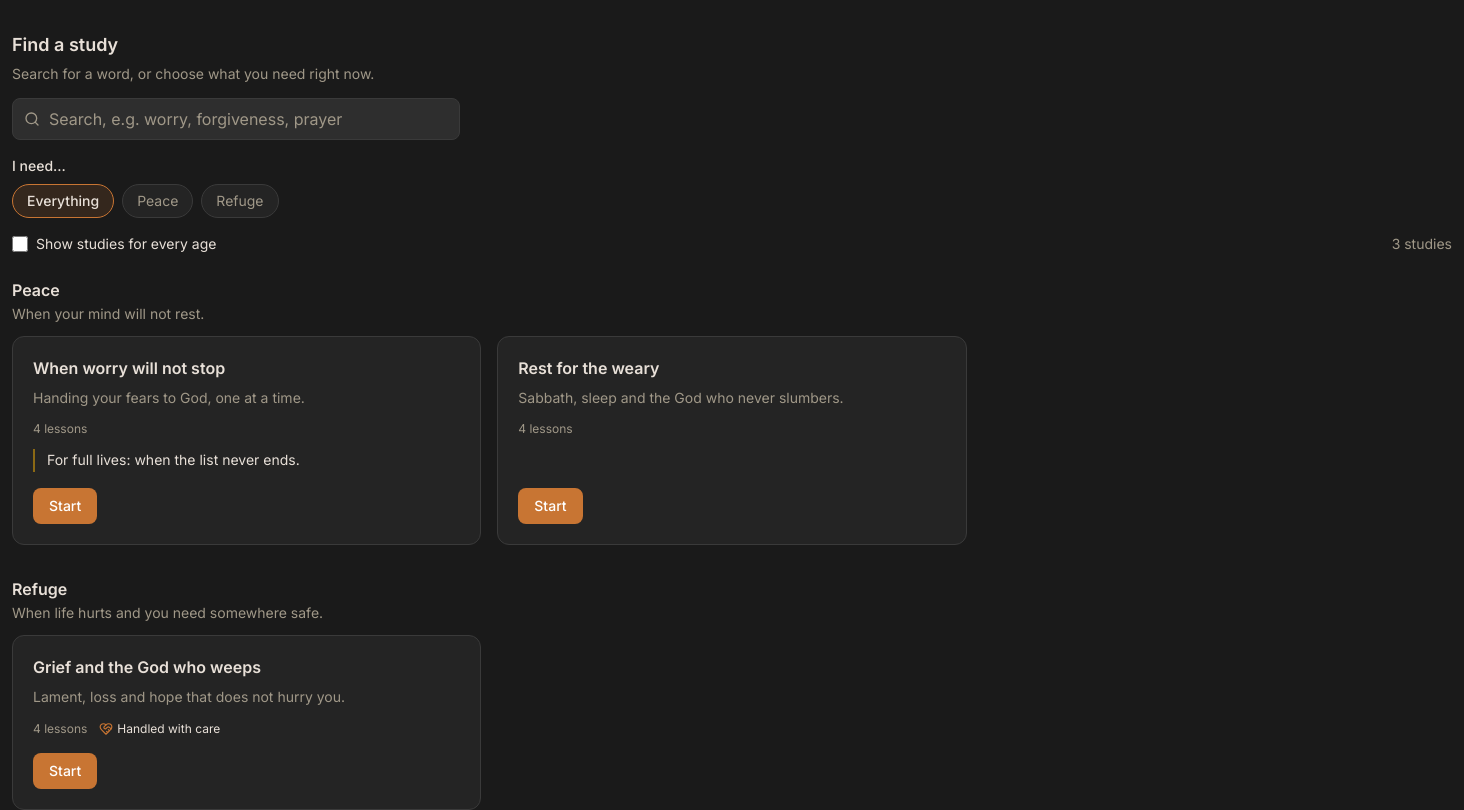
StudyHubPage › says so when a study cannot be started, and stays on the page
(page scrolled)
Step 1. Click the button "Start" below "Rest for the weary" → (550, 506), box [518,488,583,524]
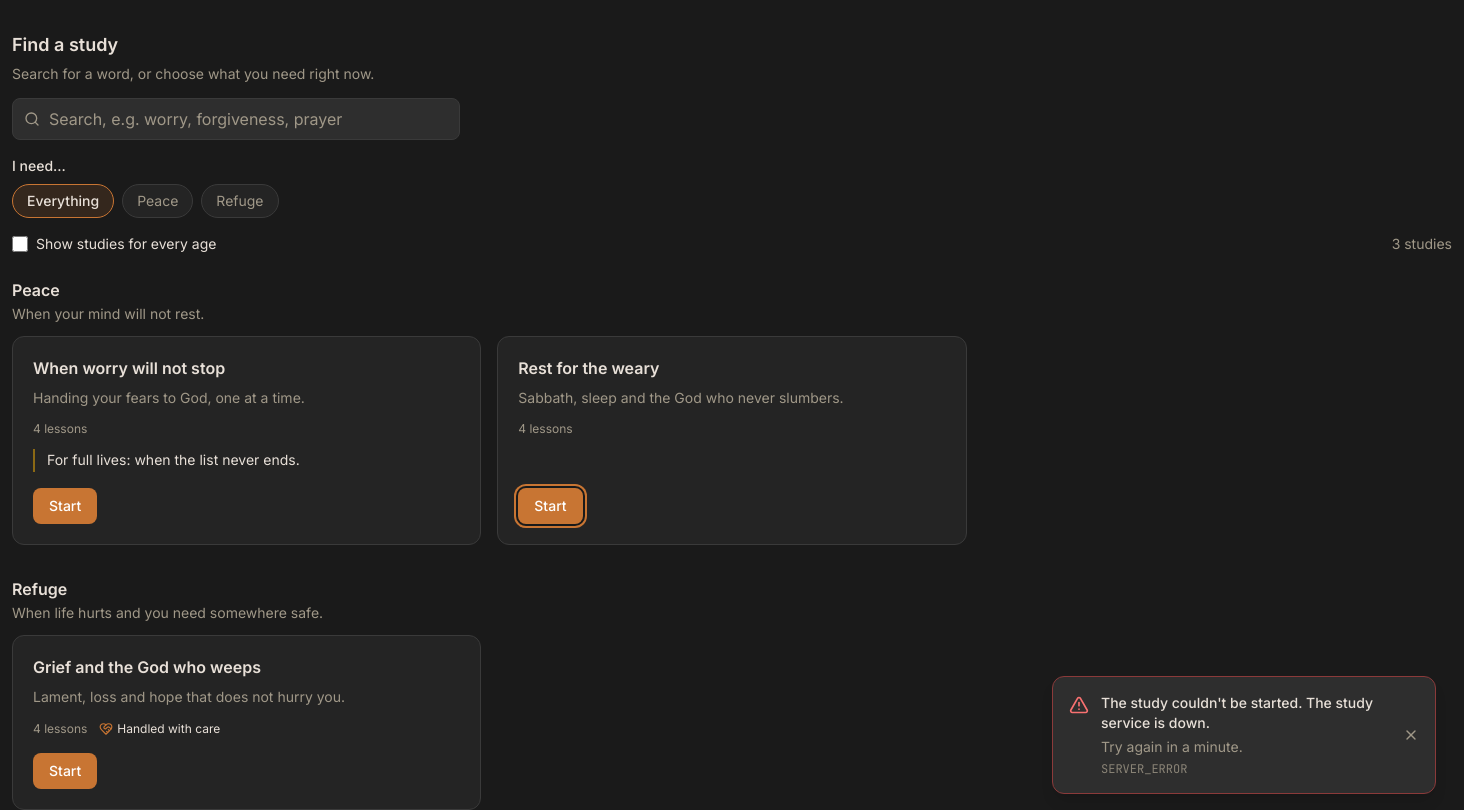
Expected: the heading "Find a study" is shown, [12,34,118,55]
Now the text "The study couldn't be started. The study service is down." is shown, box [1101,693,1391,733]
Now the text "Try again in a minute." is shown, box [1101,738,1243,755]
